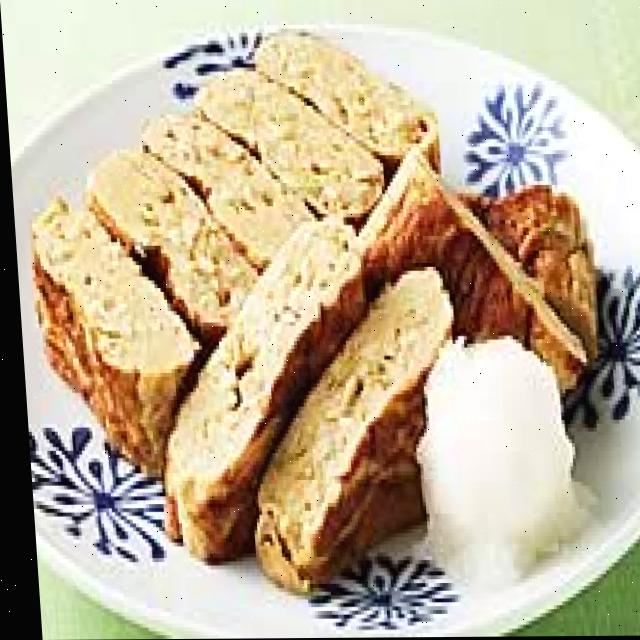鸡蛋料理: (4, 12, 616, 597)
